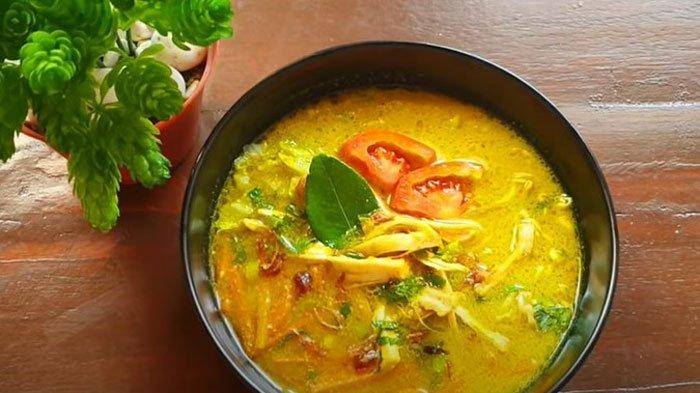soto: (172, 45, 659, 386)
